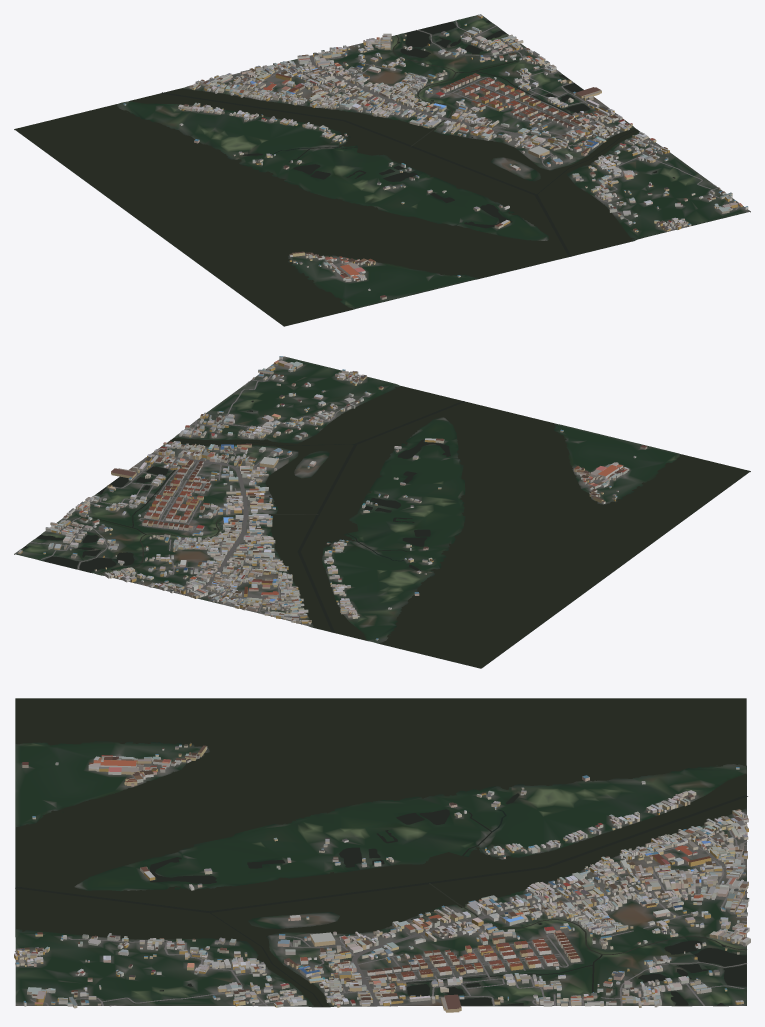
The picture shows the model from 3 angles, top to bottom: view 1: azimuth 30°, elevation 25°; view 2: azimuth 150°, elevation 25°; view 3: azimuth 270°, elevation 25°; orthographic projection. The views are drawn at different scales.
Parts seen in each view (by area): view 1: water, ground, buildings, roads; view 2: water, ground, buildings, roads; view 3: water, ground, buildings, roads.
Part boxes in pixels (x1,y1,x2,y2): water: [15, 20, 675, 325]; ground: [14, 14, 750, 326]; buildings: [123, 14, 748, 299]; roads: [188, 21, 739, 231]; water: [23, 386, 749, 668]; ground: [14, 356, 750, 668]; buildings: [18, 356, 647, 640]; roads: [30, 364, 367, 625]; water: [15, 698, 747, 1006]; ground: [15, 698, 746, 1007]; buildings: [14, 742, 750, 1012]; roads: [15, 812, 747, 1006].
Size of the model in its own units: 1430 by 19.73 by 1411.
